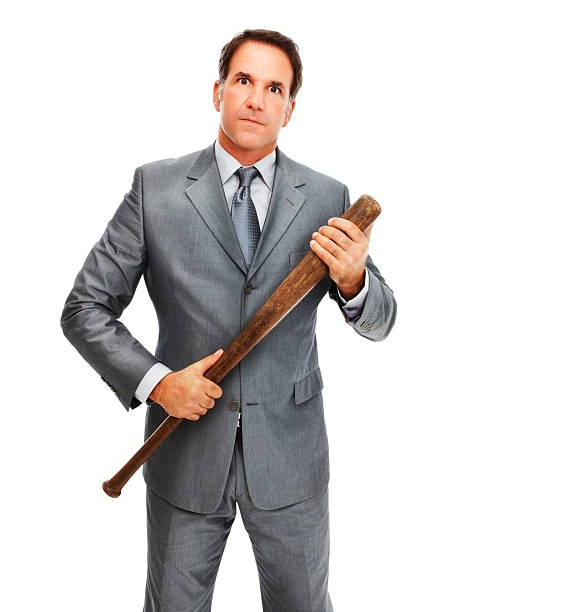bita: (103, 196, 370, 498)
